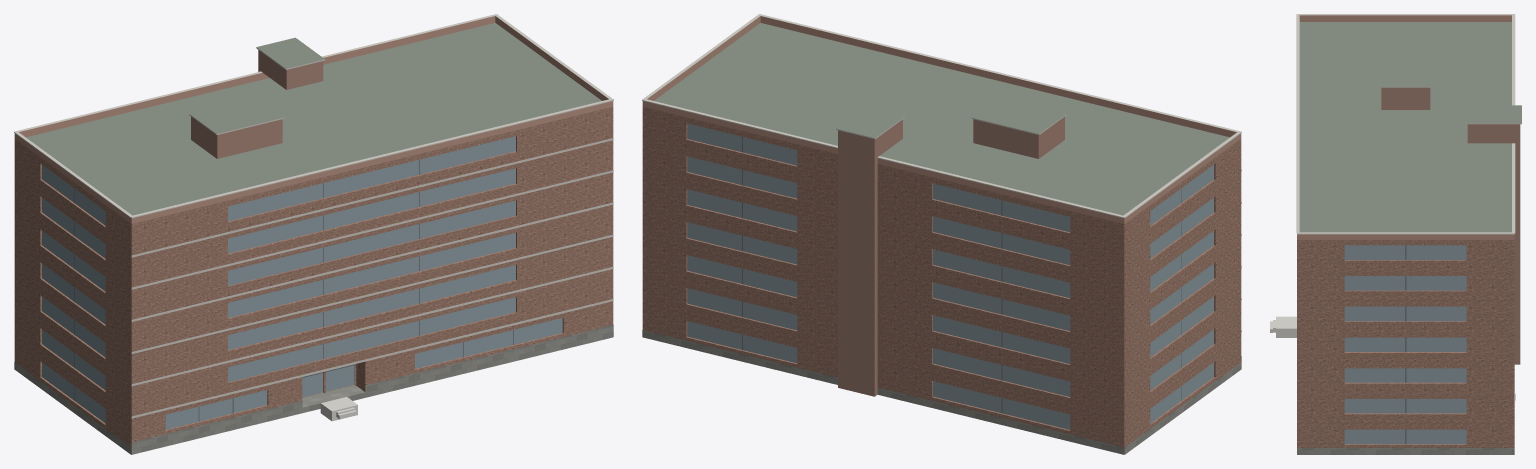
3 views of the same model, side by side, from view 1: azimuth 30°, elevation 25°; view 2: azimuth 150°, elevation 25°; view 3: azimuth 270°, elevation 25° (orthographic). The views are drawn at different scales.
Parts seen in each view (by area): view 1: hum14__wall, hum14__roof, hum14__glass, hum14__trim, hum14__parapet, hum14__base, hum14__wall2, hum14__entranceStair; view 2: hum14__wall, hum14__roof, hum14__glass, hum14__wall2, hum14__parapet, hum14__base, hum14__trim; view 3: hum14__roof, hum14__wall, hum14__glass, hum14__wall2, hum14__trim, hum14__parapet, hum14__base, hum14__entranceStair.
Part boxes in pixels (x1,y1,x2,y2): hum14__wall: [14, 107, 613, 454]; hum14__roof: [26, 23, 612, 454]; hum14__glass: [42, 136, 562, 429]; hum14__trim: [14, 14, 613, 418]; hum14__parapet: [14, 16, 613, 223]; hum14__base: [14, 325, 613, 454]; hum14__wall2: [191, 50, 323, 158]; hum14__entranceStair: [320, 397, 357, 421]; hum14__wall: [642, 107, 1241, 454]; hum14__roof: [654, 23, 1229, 215]; hum14__glass: [687, 123, 1213, 429]; hum14__wall2: [838, 116, 1064, 396]; hum14__parapet: [642, 16, 1241, 223]; hum14__base: [642, 330, 1241, 454]; hum14__trim: [642, 14, 1241, 332]; hum14__roof: [1299, 22, 1521, 232]; hum14__wall: [1297, 240, 1514, 447]; hum14__glass: [1344, 245, 1466, 444]; hum14__wall2: [1381, 87, 1520, 364]; hum14__trim: [1296, 14, 1521, 234]; hum14__parapet: [1297, 15, 1514, 239]; hum14__base: [1297, 394, 1515, 454]; hum14__entranceStair: [1270, 316, 1296, 337].
Bounding box in the file's own units: 55.23 × 28.86 × 26.75.
Materials: 10 (2 with a texture image).
